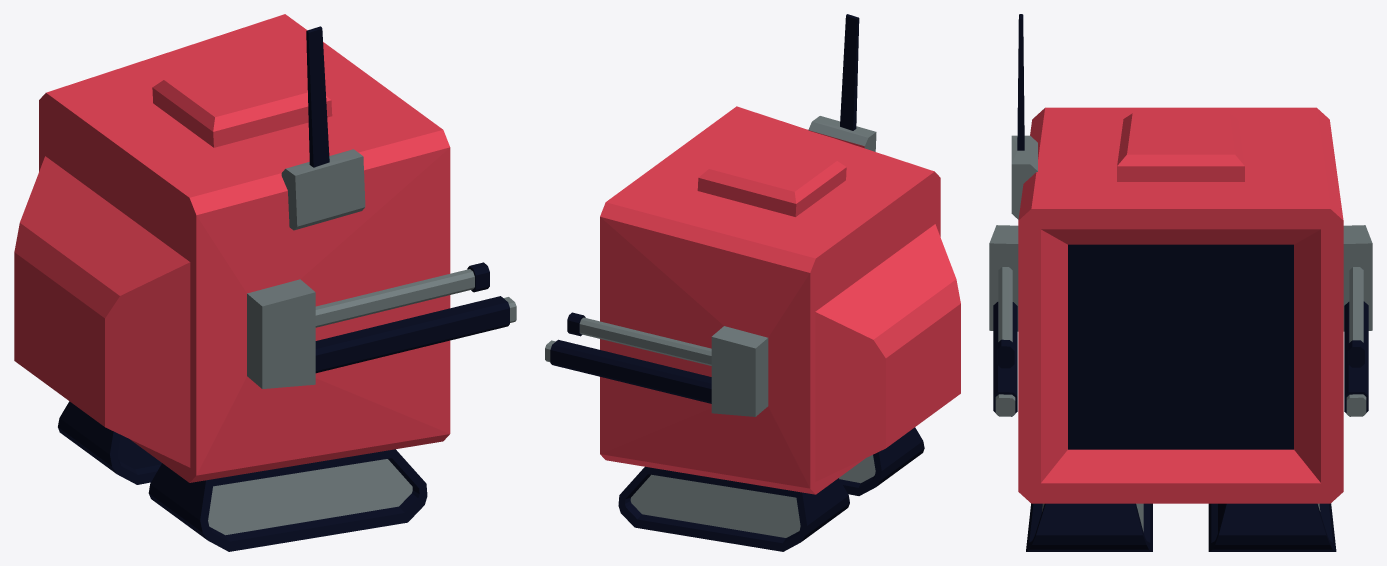
Rendered from enemy.fbx.
The picture shows the model from 3 angles, left to right: view 1: azimuth 30°, elevation 25°; view 2: azimuth 150°, elevation 25°; view 3: azimuth 270°, elevation 25°; orthographic projection. The views are drawn at different scales.
Visible parts, largest first — view 1: Cube; view 2: Cube; view 3: Cube.
Boxes of the visible parts, x1=… form: Cube: x1=14, y1=14, x2=516, y2=551; Cube: x1=545, y1=14, x2=960, y2=551; Cube: x1=989, y1=14, x2=1372, y2=551.
Size of the model in its own units: 242 by 333 by 236.
